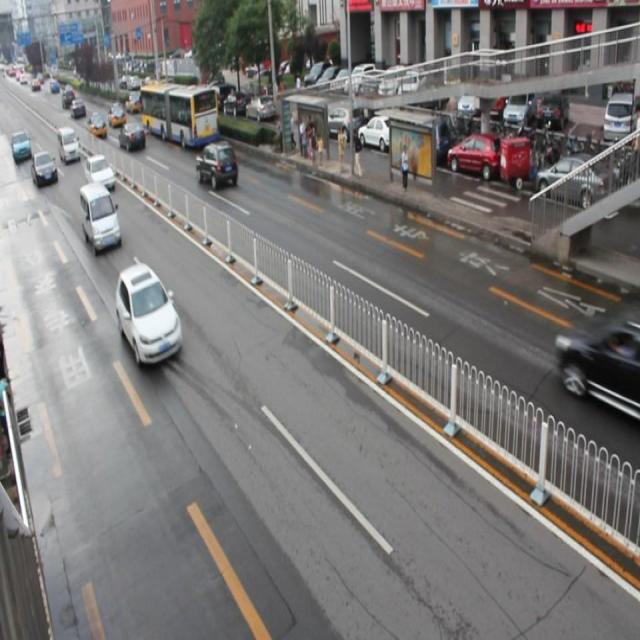car: (552, 315, 640, 426), (114, 263, 182, 366), (196, 144, 237, 190), (86, 154, 115, 192), (118, 123, 146, 152)
truck: (80, 184, 122, 253)
van: (139, 82, 220, 148)
